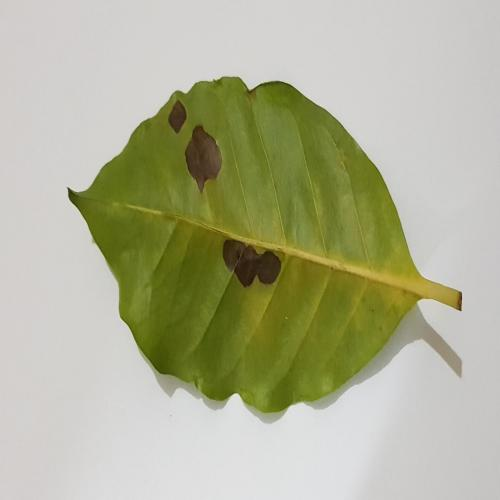leaf: (169, 102, 187, 133)
